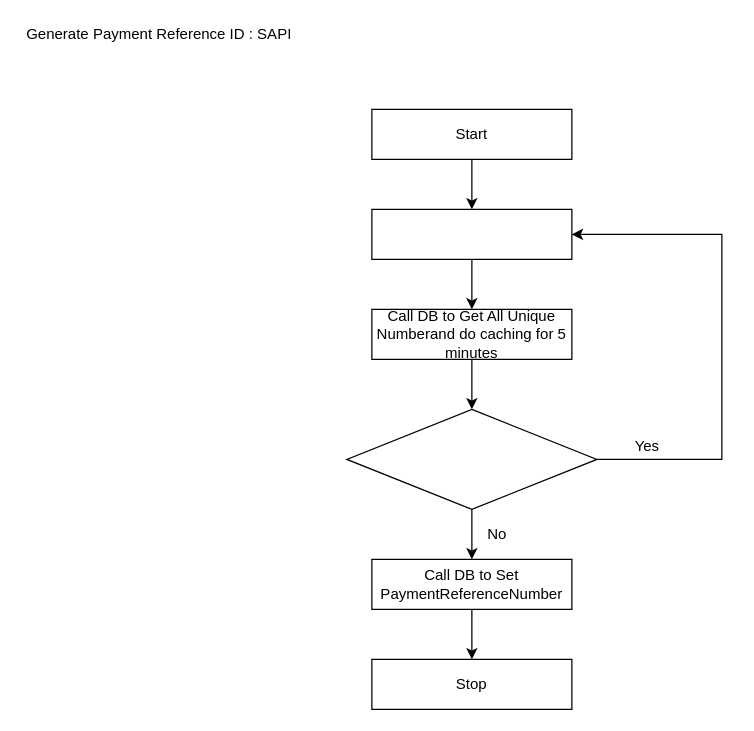
The diagram is 754 pixels wide and 731 high, and some of its shapes have lost their labels. The shapes that lost their labels are listed below. From the top down, each one's centre as x and y in pixels, then its label:
point (471, 233): Generate PaymentReferenceNumber
point (471, 458): PaymentReferenceNumber exist ?
